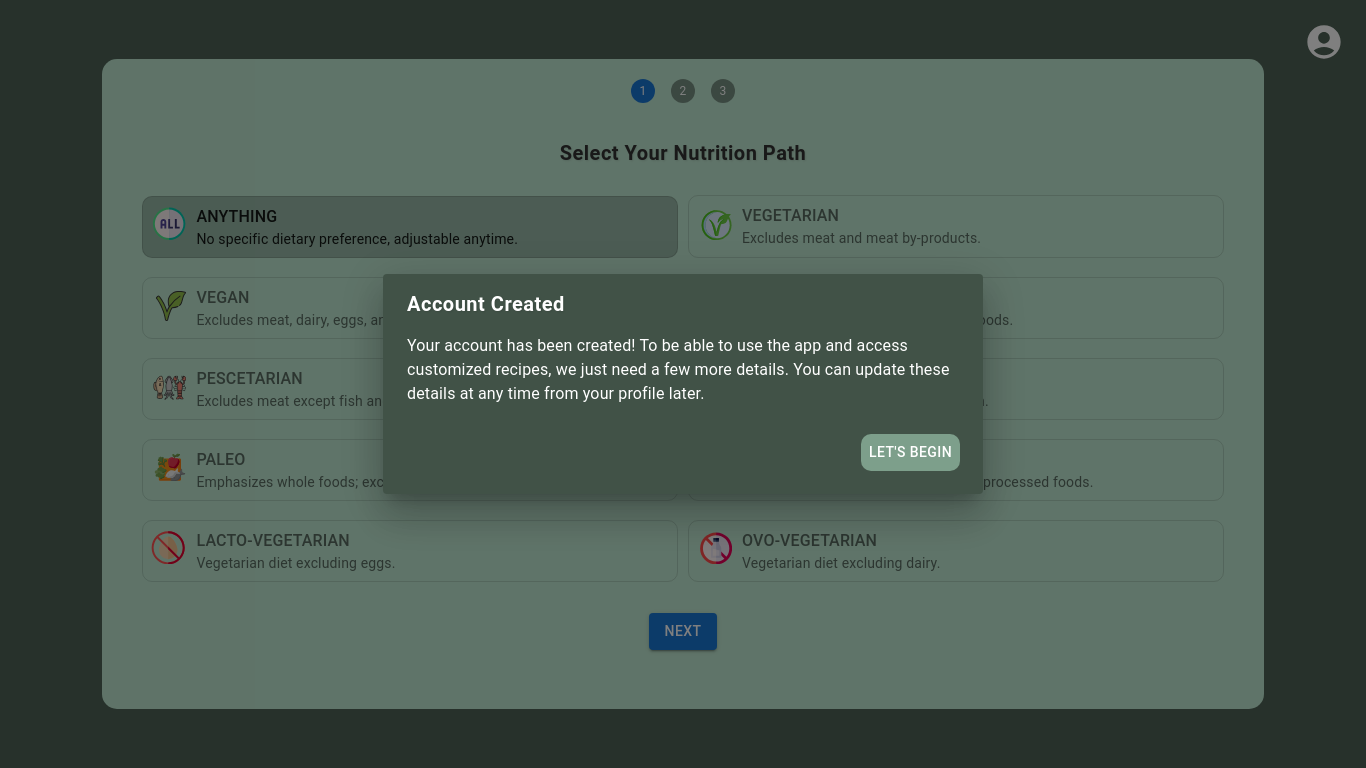
Scenario: AccountDetails Component › renders the initial dialog and closes it when "Let's Begin" is clicked
Check: the dialog is shown, box [383, 274, 983, 494]
Check: the heading "Account Created" is shown, box [407, 292, 565, 316]
Step 1. Click the button "Let's Begin" → (910, 453), box [861, 434, 960, 471]
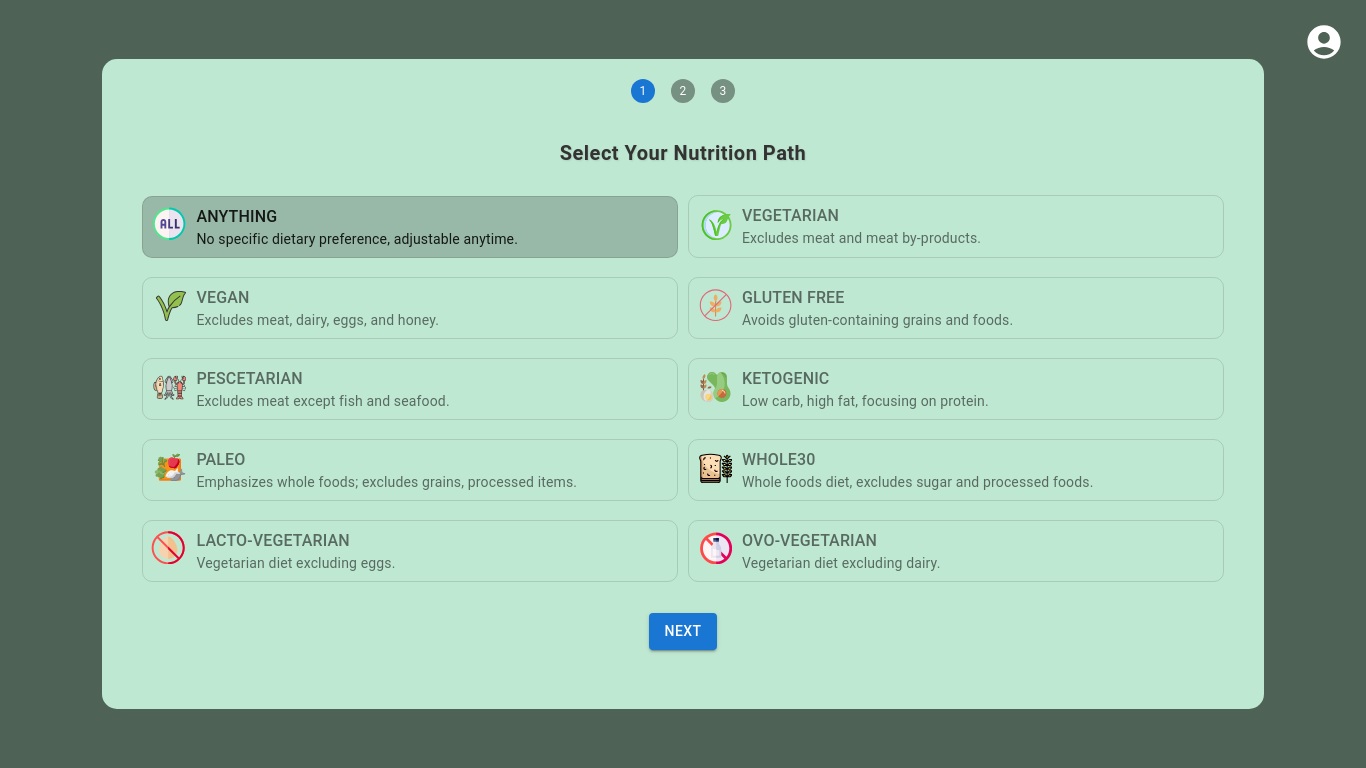
Check: the dialog is gone
